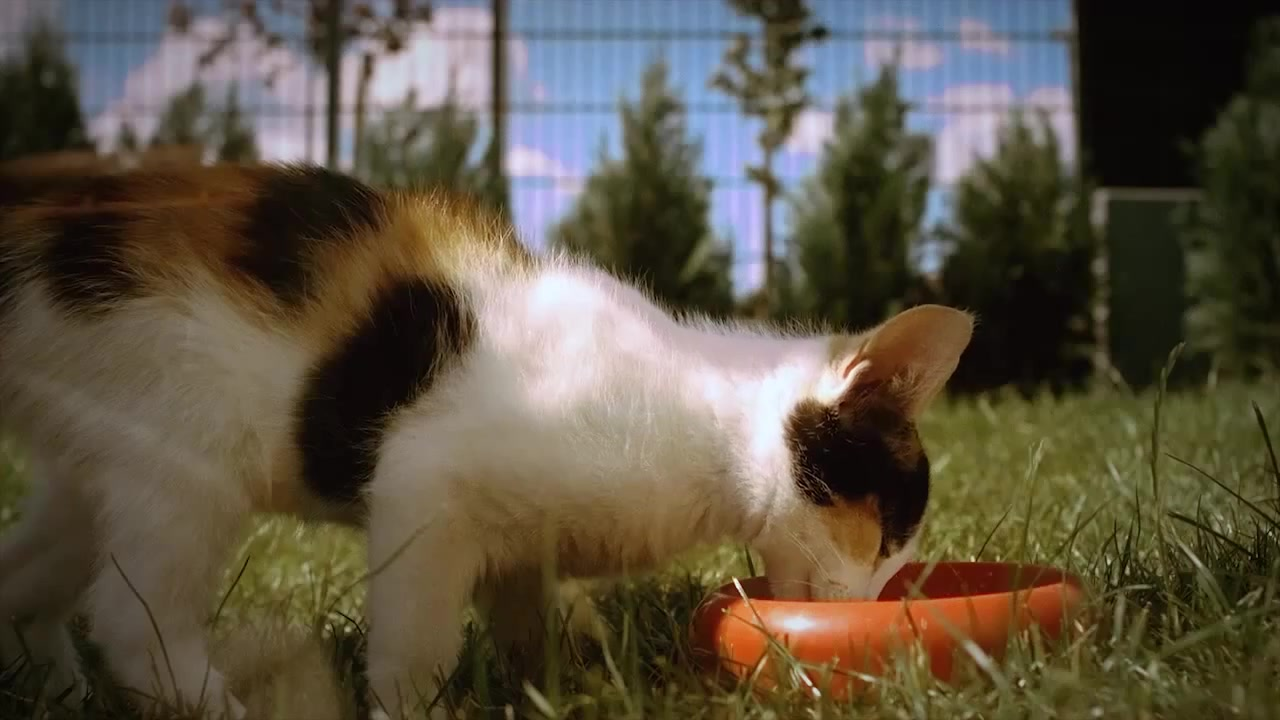cat: (1, 146, 976, 719)
